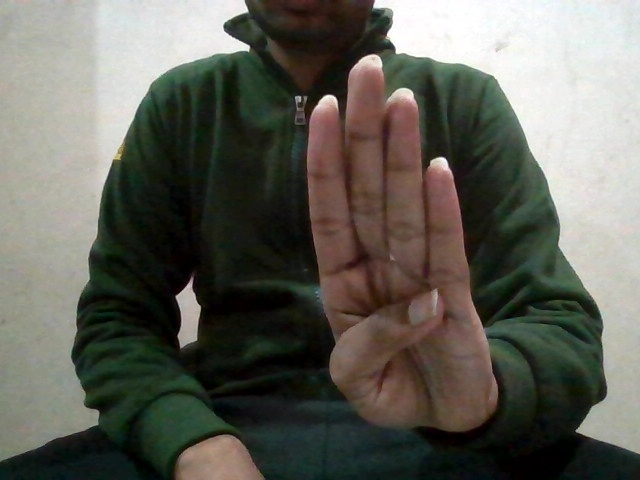B: (303, 48, 508, 436)
